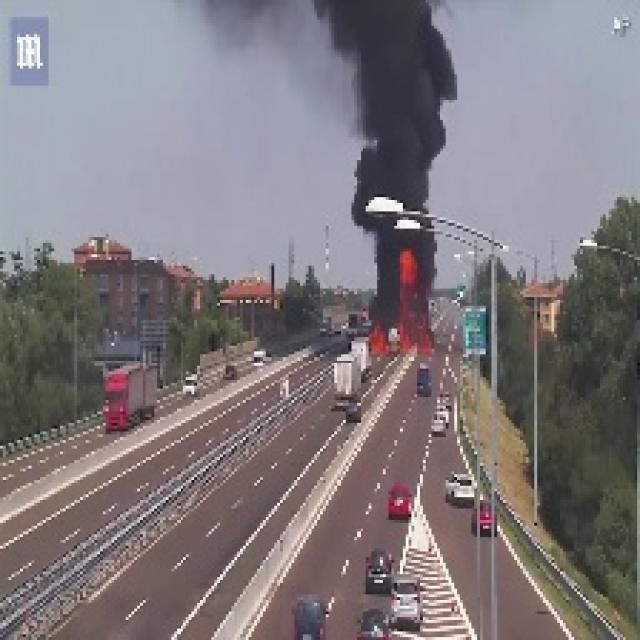fire: (371, 250, 439, 358)
